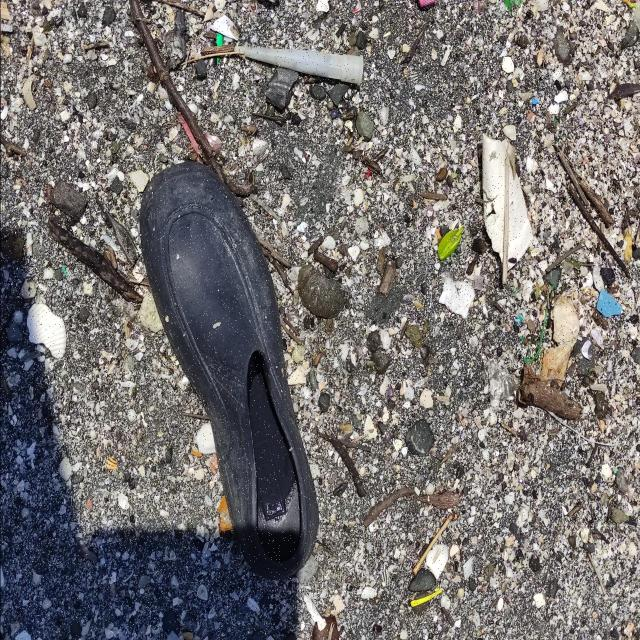rubber_waste: (140, 165, 319, 582)
styrofoam_waste: (483, 134, 533, 273)
